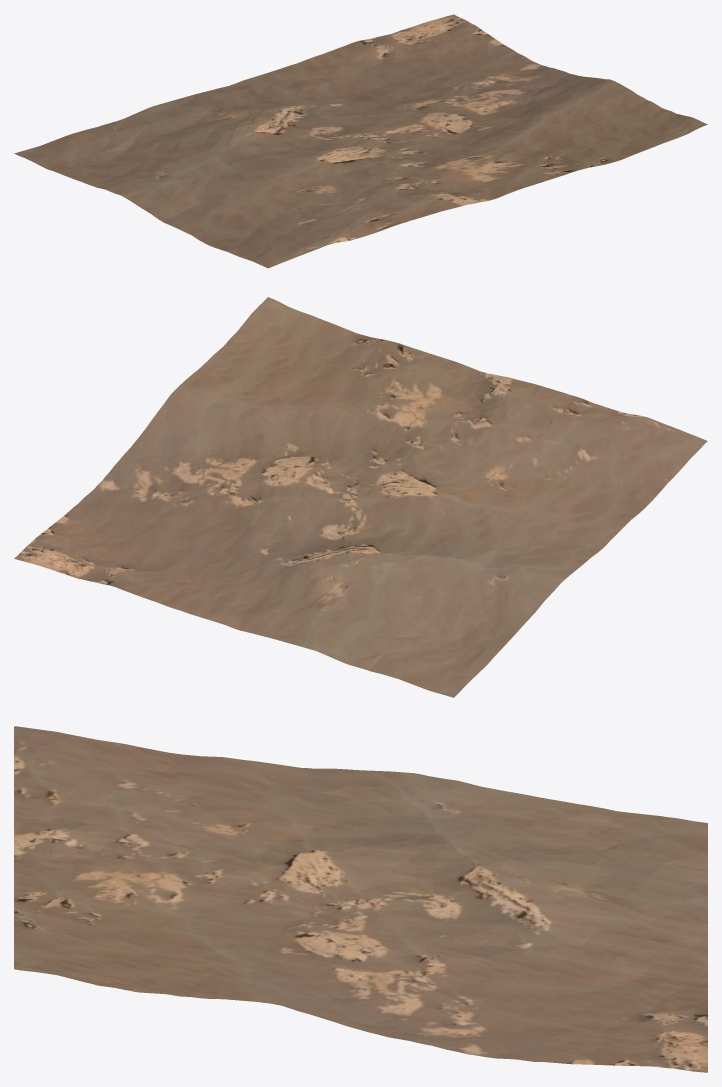
3 renders of one model, top to bottom at view 1: azimuth 30°, elevation 25°; view 2: azimuth 150°, elevation 25°; view 3: azimuth 270°, elevation 25°, orthographic. The views are drawn at different scales.
Size of the model in its own units: 2.09 by 0.4884 by 2.09.
Materials: 2 (2 with a texture image).
